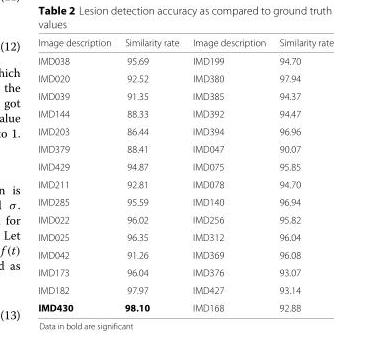table: (37, 36, 333, 313)
table column: (185, 36, 271, 313), (37, 36, 117, 313), (117, 36, 185, 313), (271, 36, 333, 313)
table column header: (37, 36, 333, 51)
table row: (37, 51, 333, 69), (37, 69, 333, 87), (37, 104, 333, 122), (37, 139, 333, 157), (37, 157, 333, 175), (37, 192, 333, 210), (37, 210, 333, 228), (37, 245, 333, 263), (37, 263, 333, 281), (37, 87, 333, 104), (37, 122, 333, 139), (37, 175, 333, 192), (37, 228, 333, 245), (37, 281, 333, 298), (37, 36, 333, 51), (37, 298, 333, 313)
